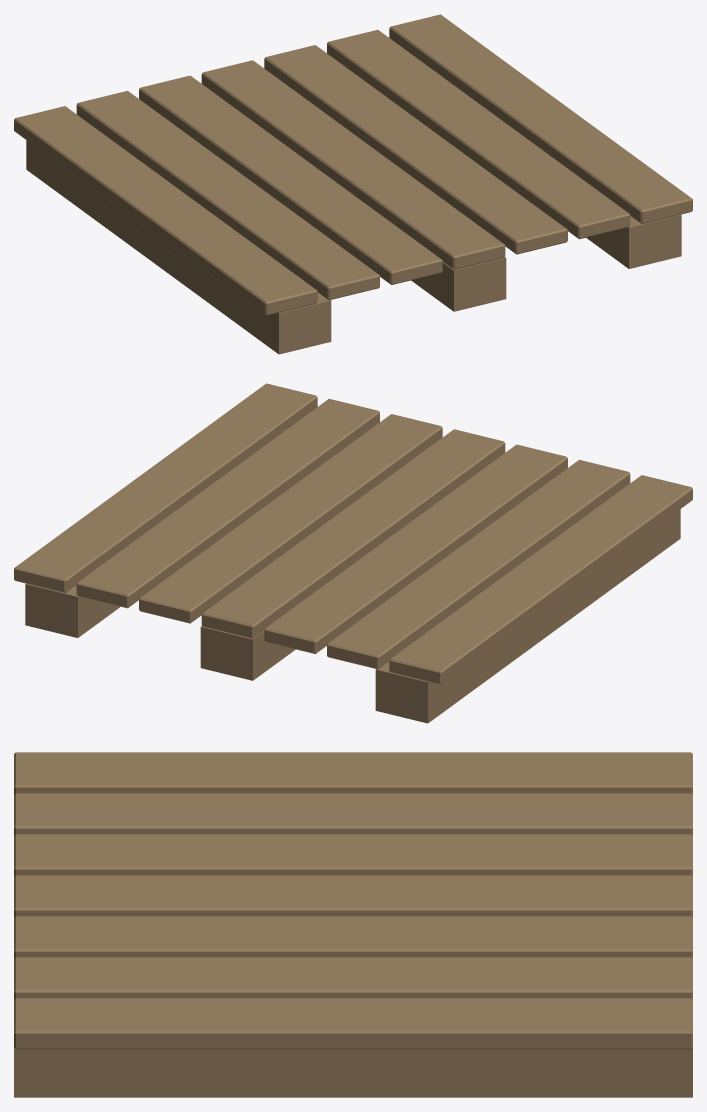
The model's file is SM_Pallet.fbx.
The picture shows the model from 3 angles, top to bottom: view 1: azimuth 30°, elevation 25°; view 2: azimuth 150°, elevation 25°; view 3: azimuth 270°, elevation 25°; orthographic projection. The views are drawn at different scales.
Parts seen in each view (by area): view 1: SM_Pallet; view 2: SM_Pallet; view 3: SM_Pallet.
Boxes of the visible parts, x1,y1,x2,y2 form: SM_Pallet: (14,14,692,354); SM_Pallet: (14,383,692,723); SM_Pallet: (14,752,692,1097).
Bounding box in the file's own units: 97.8 × 100 × 12.
